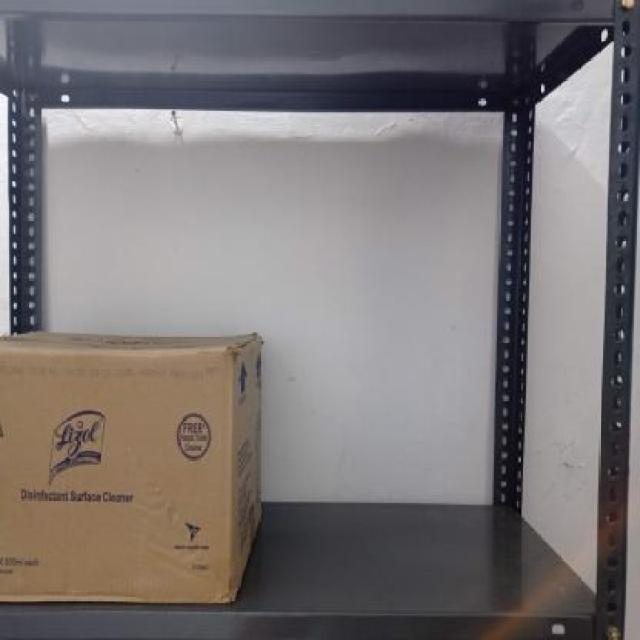box: (0, 344, 237, 606)
